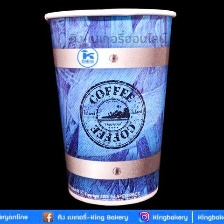paper_cup: (38, 4, 180, 208)
